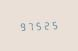five: (50, 19, 57, 30), (34, 20, 41, 30)
nine: (18, 21, 25, 31)
seven: (26, 20, 33, 31)
two: (42, 19, 49, 30)
